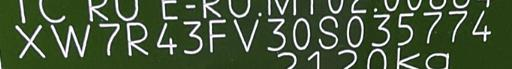letter: (48, 24, 92, 59), (12, 24, 48, 59), (230, 16, 262, 53), (124, 20, 152, 57), (178, 19, 206, 54), (468, 8, 494, 45), (96, 21, 122, 58), (368, 11, 394, 46), (314, 14, 340, 49), (264, 15, 288, 52), (205, 16, 227, 55), (154, 22, 180, 55), (446, 8, 470, 43), (420, 9, 444, 44), (344, 13, 366, 48), (290, 15, 312, 50), (396, 12, 416, 47)
